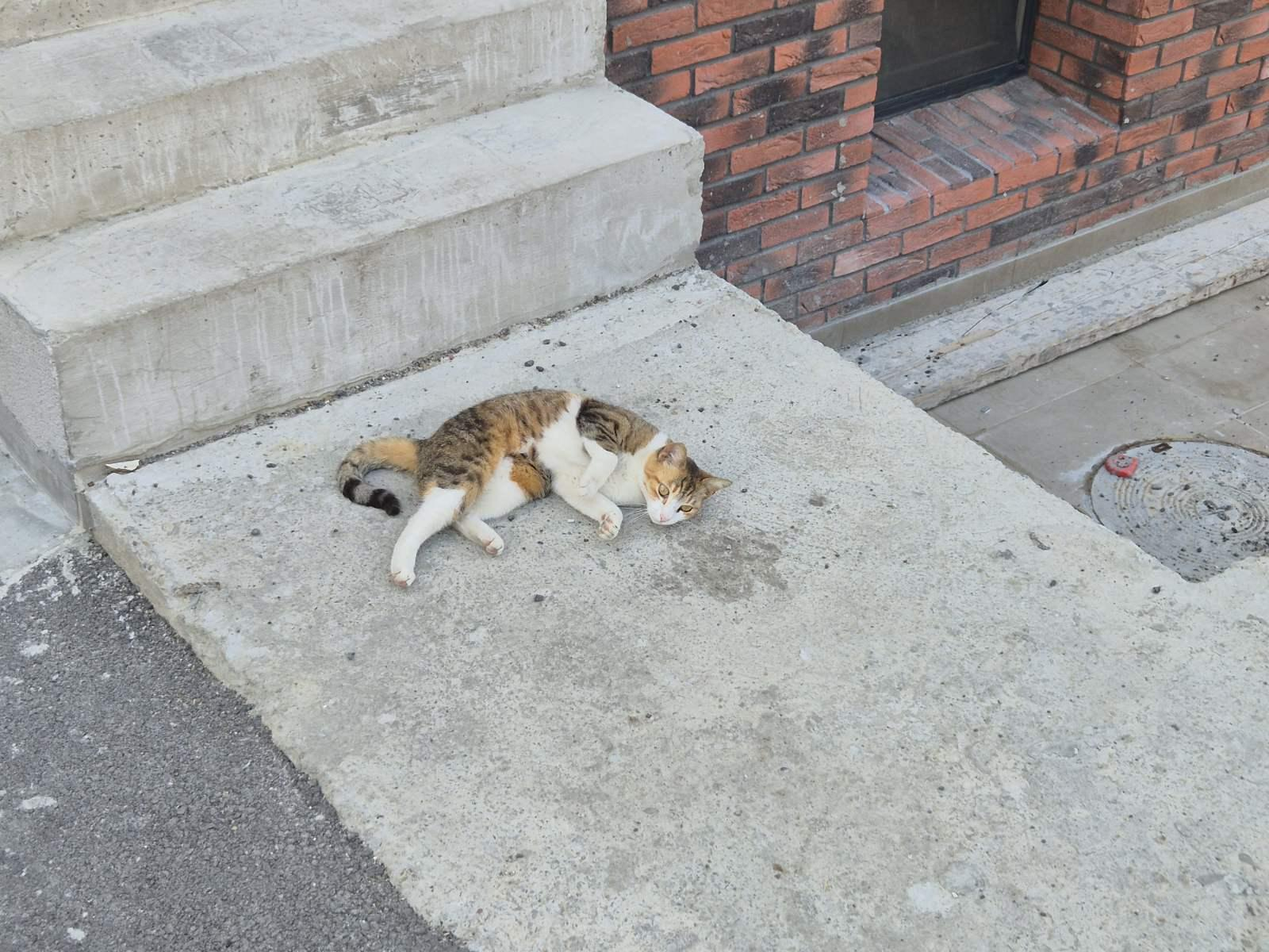macka: (339, 387, 732, 588)
